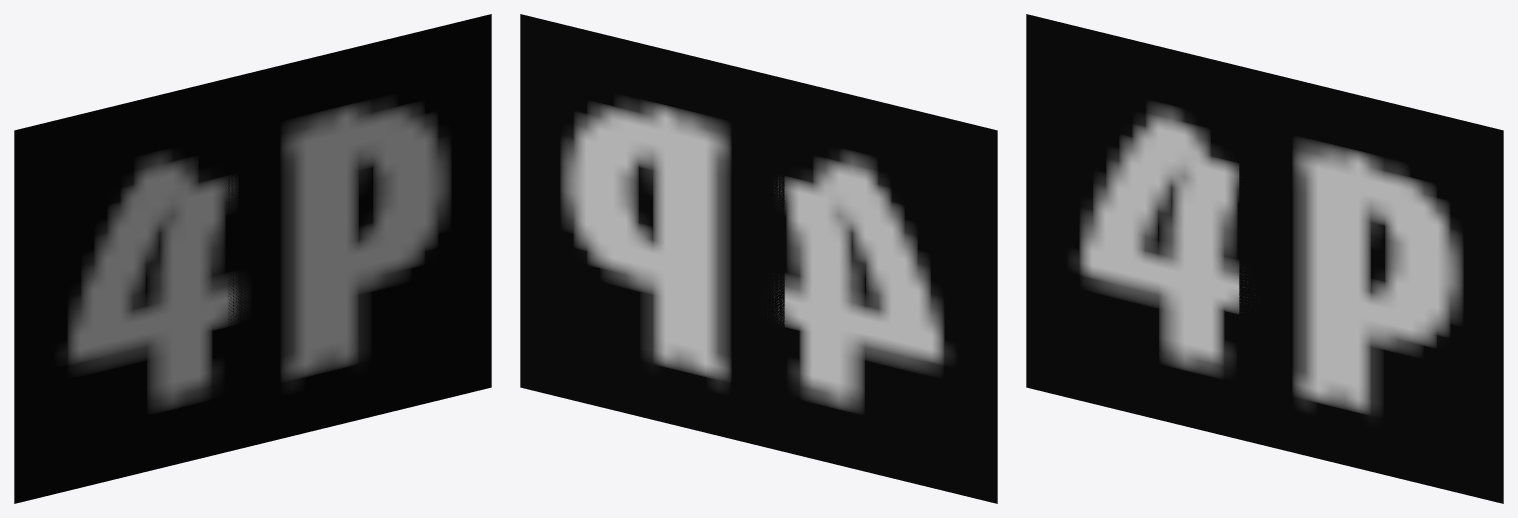
3 renders of one model, left to right at view 1: azimuth 30°, elevation 25°; view 2: azimuth 150°, elevation 25°; view 3: azimuth 330°, elevation 25°, orthographic.
Parts seen in each view (by area): view 1: Joint_0_Object_0; view 2: Joint_0_Object_0; view 3: Joint_0_Object_0.
Part boxes in pixels (x1,y1,x2,y2): Joint_0_Object_0: (14,14,491,503); Joint_0_Object_0: (520,14,997,503); Joint_0_Object_0: (1026,14,1503,503).
Size of the model in its own units: 97.04 by 72.58 by 0.
Materials: 1 (1 with a texture image).
